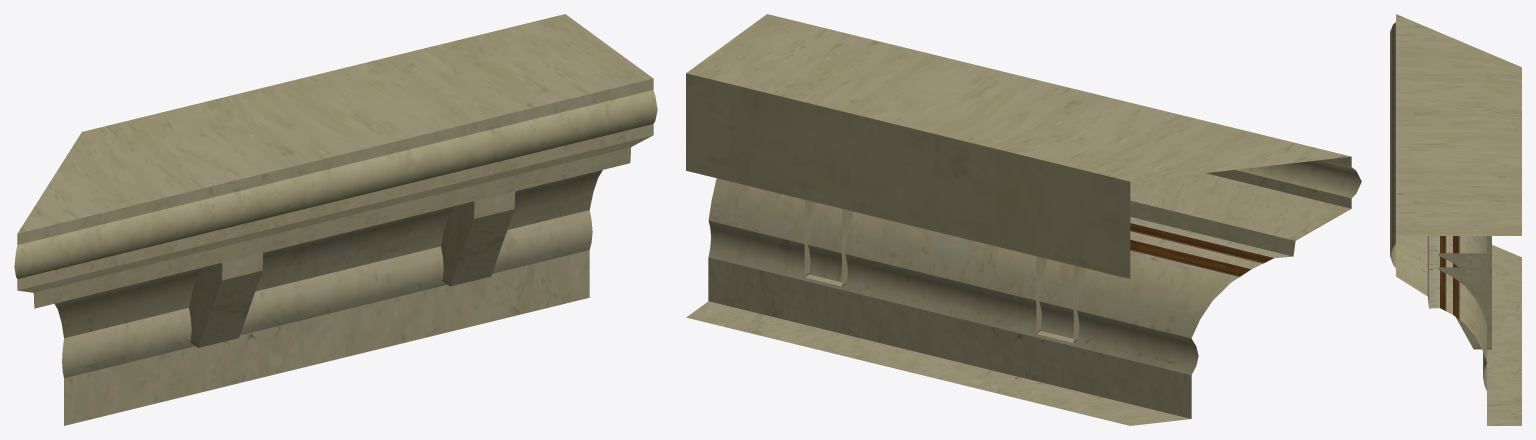
Rendered from Cornice_Trim_L.glb.
3 renders of one model, left to right at view 1: azimuth 30°, elevation 25°; view 2: azimuth 150°, elevation 25°; view 3: azimuth 270°, elevation 25°, orthographic. The views are drawn at different scales.
Parts seen in each view (by area): view 1: Cornice_Trim_L; view 2: Cornice_Trim_L; view 3: Cornice_Trim_L.
Boxes of the visible parts, <box> form: Cornice_Trim_L: <box>14,14,657,425</box>; Cornice_Trim_L: <box>686,14,1361,425</box>; Cornice_Trim_L: <box>1390,14,1521,425</box>.
Bounding box in the file's own units: 2.53 × 0.9985 × 0.6278.
1 material, 1 textured.
